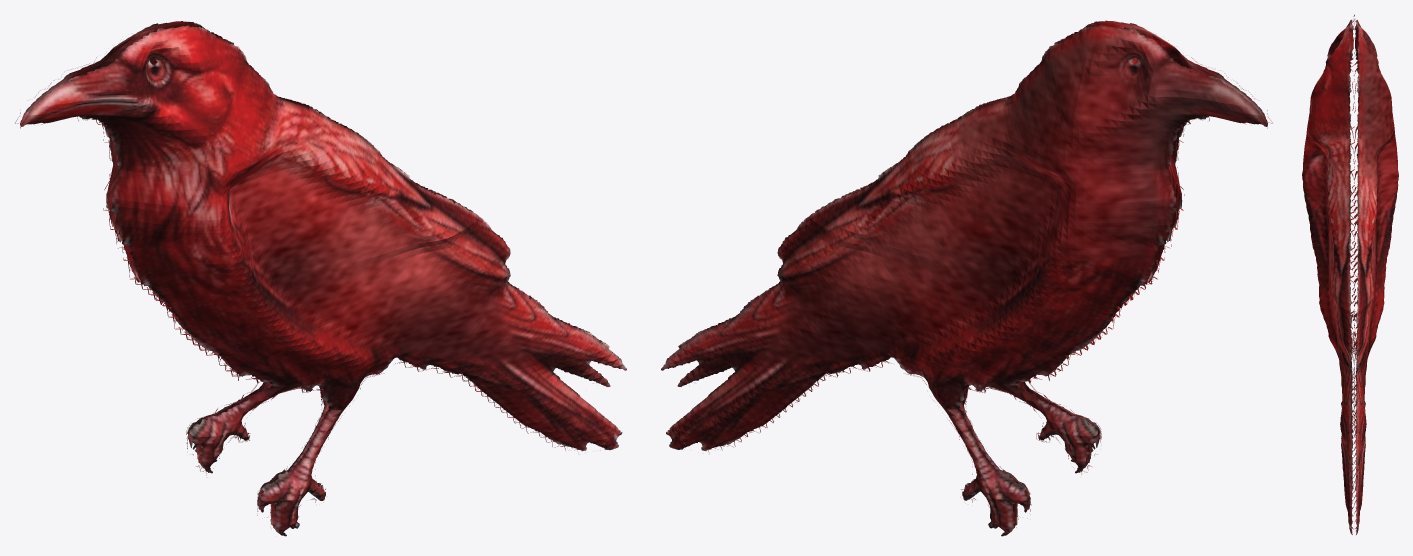
Rendered from subject_torso.obj.
3 renders of one model, left to right at view 1: azimuth 30°, elevation 25°; view 2: azimuth 150°, elevation 25°; view 3: azimuth 270°, elevation 25°, orthographic. The views are drawn at different scales.
Visible parts, largest first — view 1: subject_torso; view 2: subject_torso; view 3: subject_torso.
Boxes of the visible parts, bbox=[...] form: subject_torso: bbox=[15, 21, 626, 536]; subject_torso: bbox=[661, 20, 1272, 536]; subject_torso: bbox=[1302, 14, 1398, 534].
Bounding box in the file's own units: 1.98 × 1.69 × 0.4022.
Materials: 1 (1 with a texture image).
